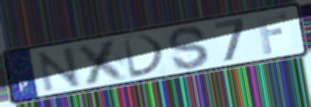7: (211, 16, 249, 64)
D: (120, 33, 168, 81)
F: (255, 11, 290, 56)
N: (35, 44, 84, 94)
S: (166, 24, 211, 72)
X: (74, 36, 132, 87)
